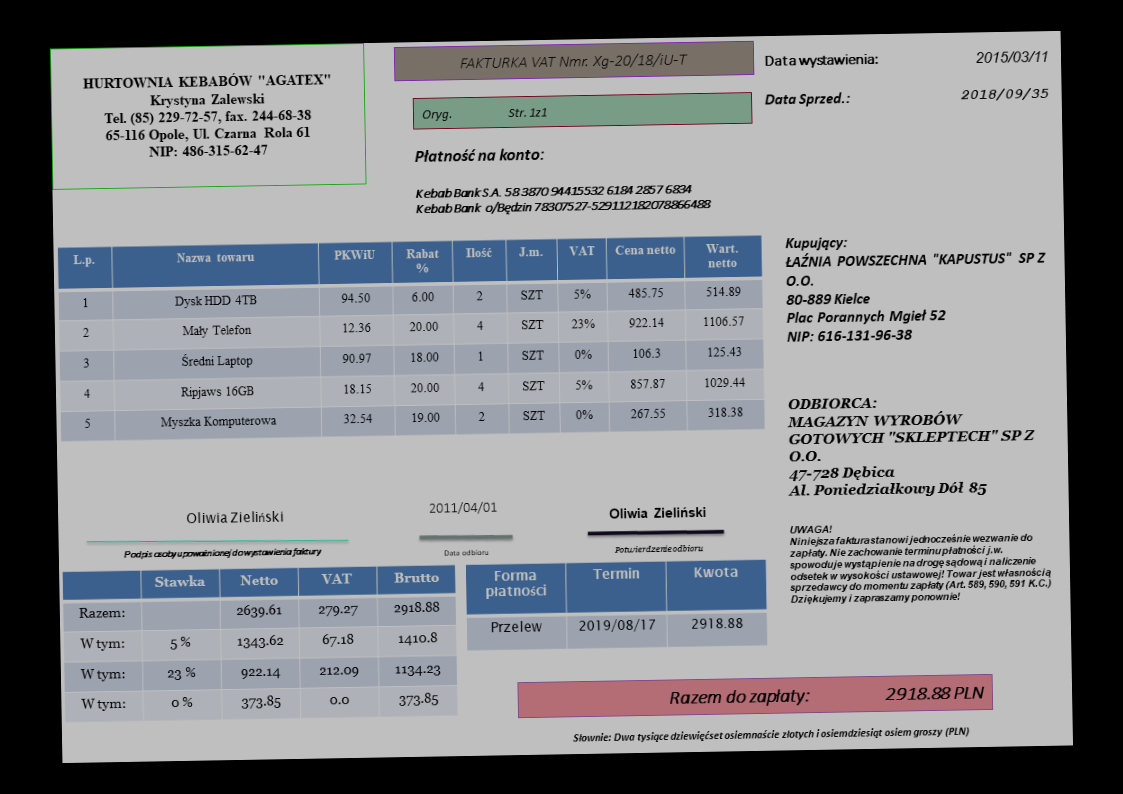Table: (55, 234, 767, 443), (61, 564, 459, 723), (464, 557, 768, 653)
TextBox: (781, 230, 1049, 346), (784, 391, 1038, 502), (78, 65, 335, 165), (787, 516, 1055, 606), (412, 179, 714, 217), (570, 720, 972, 747), (666, 680, 986, 708), (454, 50, 689, 72), (121, 543, 324, 563), (762, 48, 880, 73), (411, 145, 546, 166), (418, 103, 551, 123), (182, 506, 288, 527), (957, 84, 1051, 105), (605, 503, 708, 521), (763, 89, 852, 109), (974, 47, 1050, 66), (611, 541, 706, 555), (427, 499, 498, 517), (440, 547, 490, 558)
